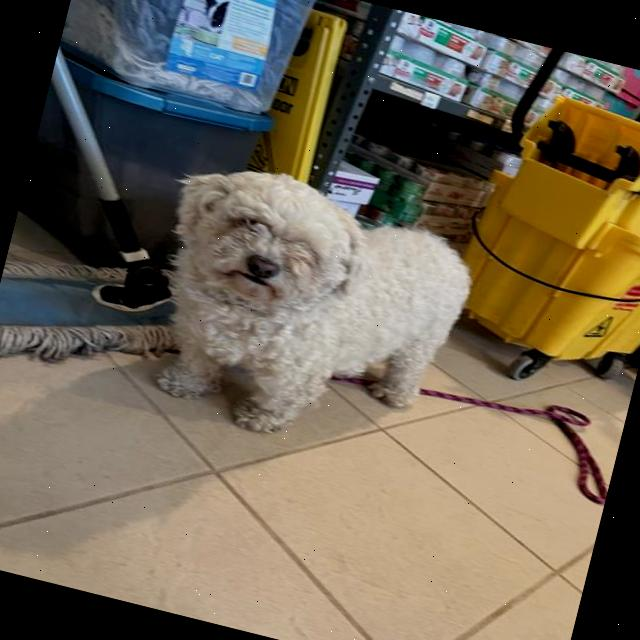Poodle_dog: (135, 139, 398, 363)
